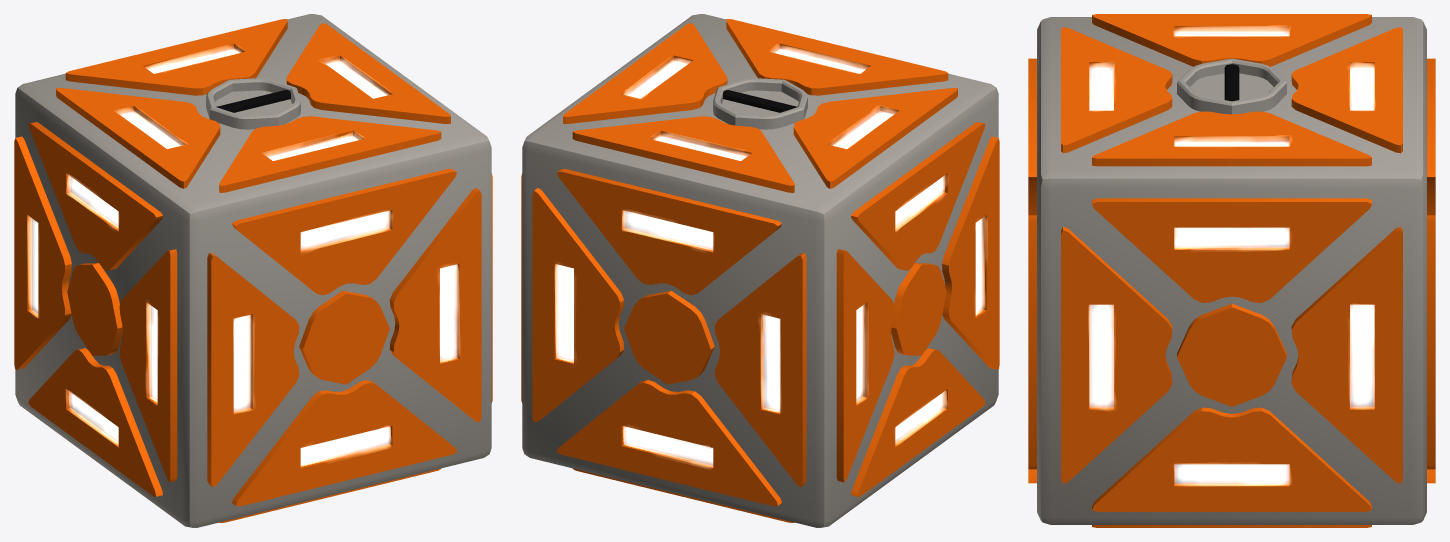
File: Crate.fbx
3 views of the same model, side by side, from view 1: azimuth 30°, elevation 25°; view 2: azimuth 150°, elevation 25°; view 3: azimuth 270°, elevation 25° (orthographic). The views are drawn at different scales.
Parts seen in each view (by area): view 1: Crate; view 2: Crate; view 3: Crate.
Boxes of the visible parts, x1=… form: Crate: x1=14, y1=14, x2=492, y2=527; Crate: x1=521, y1=14, x2=999, y2=527; Crate: x1=1028, y1=14, x2=1435, y2=527.
Bounding box in the file's own units: 53.6 × 54.38 × 53.6.
